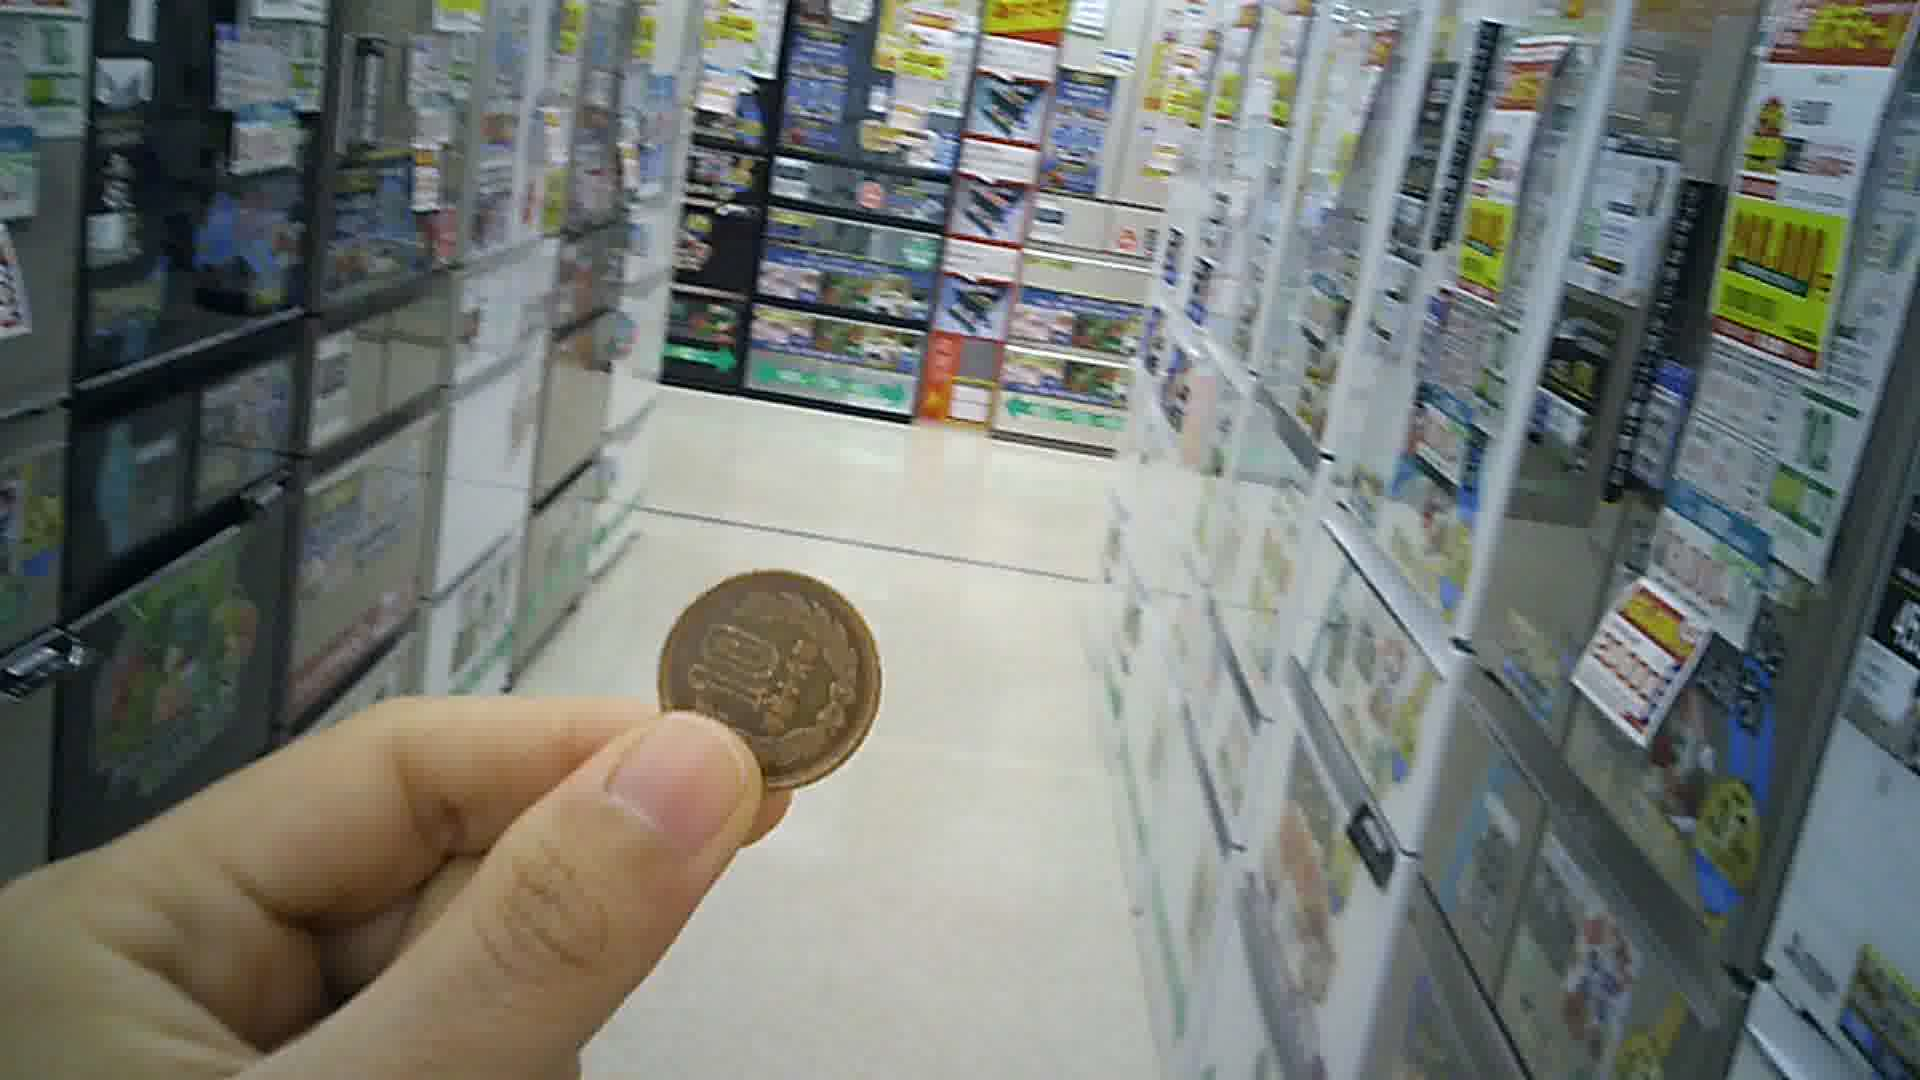10 Yen: (646, 553, 874, 787)
